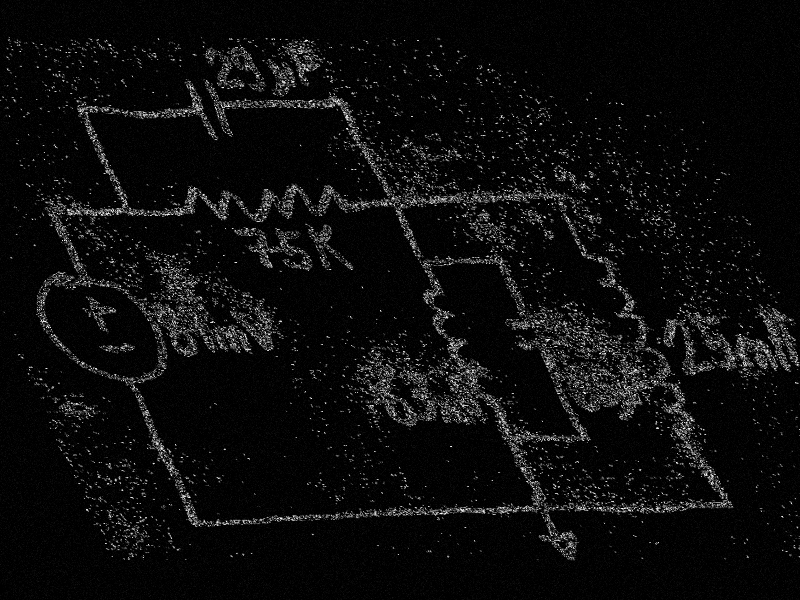2: (652, 315, 720, 380), (196, 47, 249, 92)
3: (397, 372, 449, 424)
5: (687, 312, 745, 374), (270, 228, 321, 275), (586, 368, 624, 408)
6: (362, 361, 424, 428)
7: (225, 224, 292, 276)
8: (149, 305, 208, 363), (557, 362, 607, 414)
9: (224, 43, 276, 93)
F: (283, 45, 331, 87), (619, 368, 657, 408)
H: (755, 309, 800, 372), (451, 389, 490, 425)
V: (236, 308, 290, 352)
k: (298, 220, 361, 276)
m: (726, 333, 785, 376), (193, 322, 257, 355), (434, 403, 471, 424)
u: (262, 60, 307, 97), (610, 382, 643, 419)
